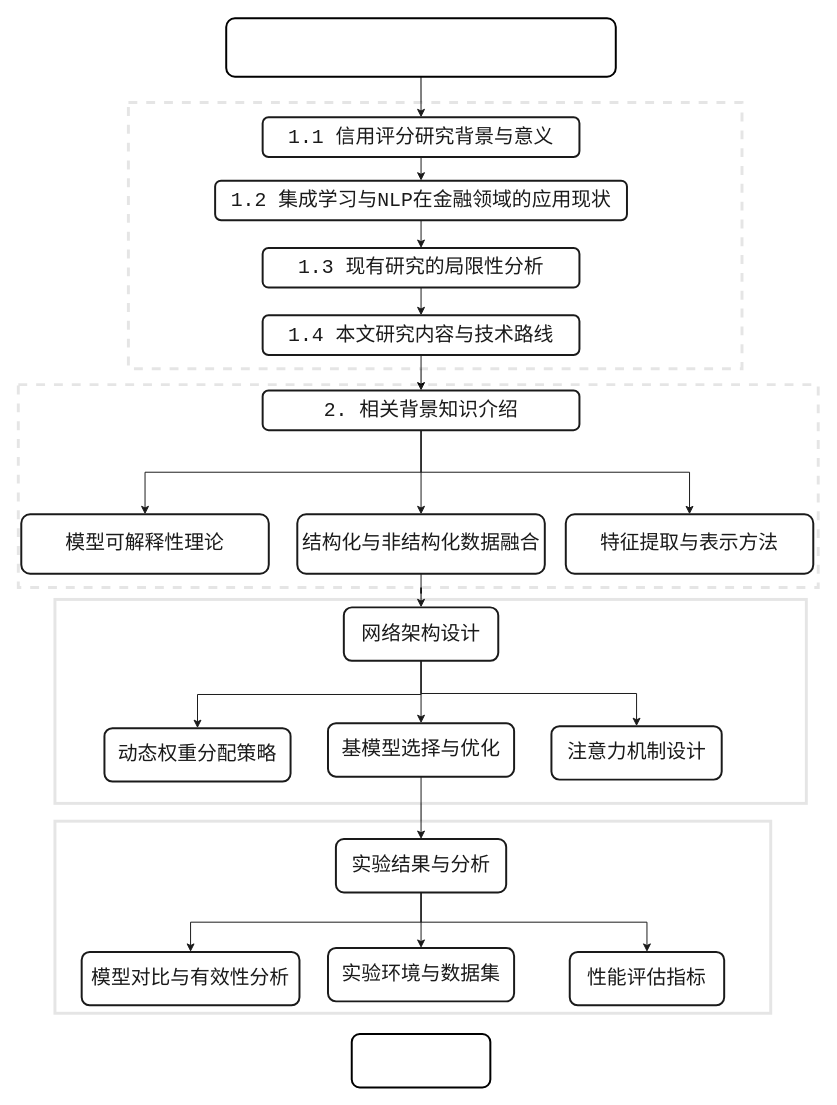
The diagram is 837 pixels wide and 1105 high, and some of its shapes have lost their labels. Here are the shapes that lost their labels. From the top down, the box of each, then its label:
(225, 17, 616, 77): 基于动态权重Stacking集成与深度语义分析的信用评分模型优化研究
(350, 1033, 491, 1088): 总结与建议
